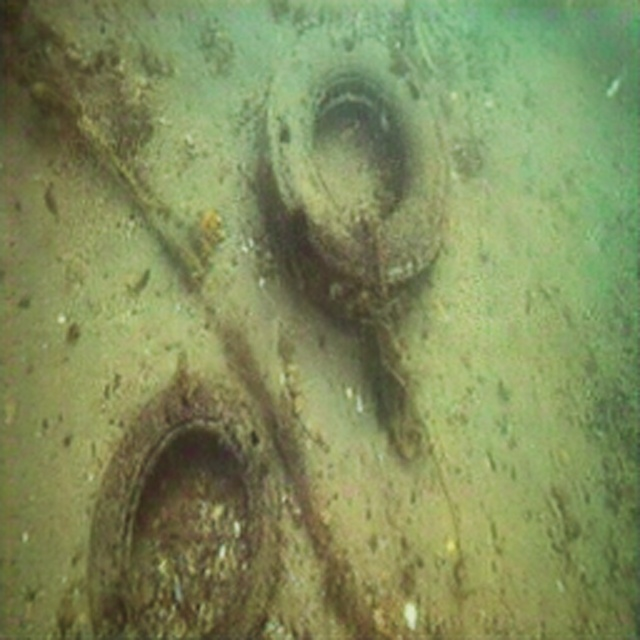mine: (262, 28, 449, 305), (87, 372, 279, 640)
